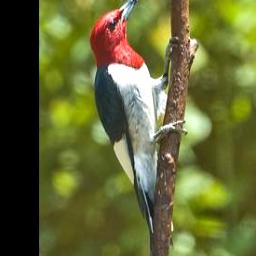Woodpecker: (88, 0, 186, 244)
